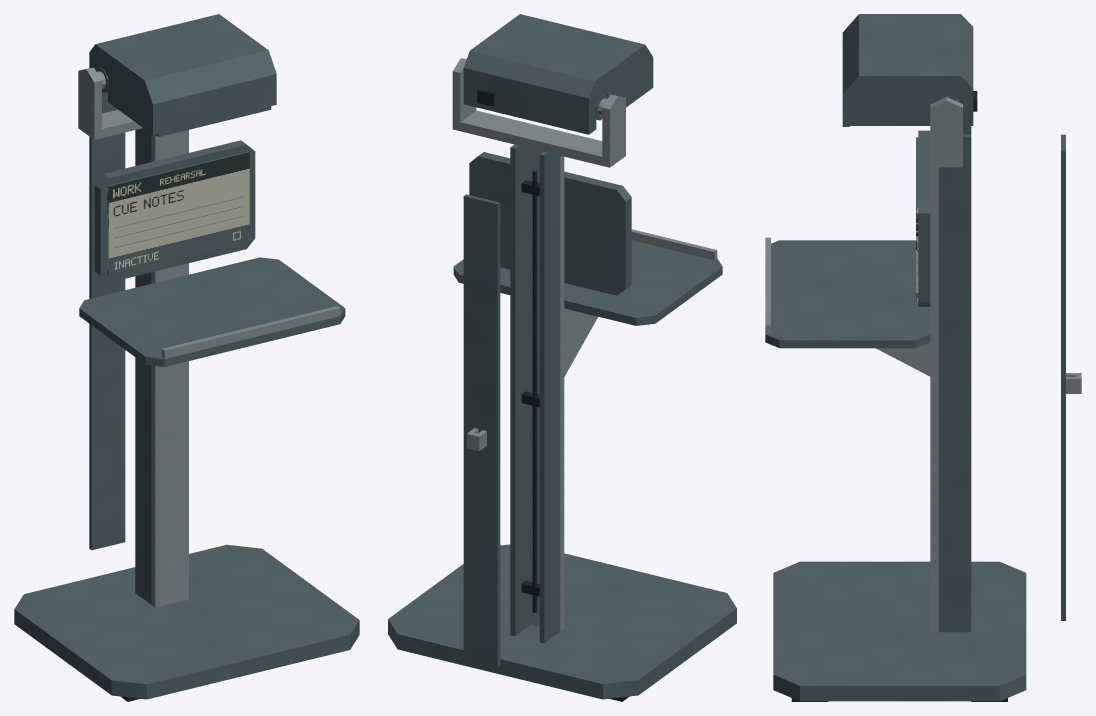
The model's file is AST-CUL-004_service_open.glb.
The picture shows the model from 3 angles, left to right: view 1: azimuth 30°, elevation 25°; view 2: azimuth 150°, elevation 25°; view 3: azimuth 270°, elevation 25°; orthographic projection. The views are drawn at different scales.
Visible parts, largest first — view 1: AST-CUL-004__static__staff_bluegrey_paint, AST-CUL-004__LIGHT_AIM_X__staff_bluegrey_paint, AST-CUL-004__static__staff_zinc, AST-CUL-004__static__original_rehearsal_notes, AST-CUL-004__REAR_COVER_REMOVE__staff_bluegrey_paint; view 2: AST-CUL-004__static__staff_bluegrey_paint, AST-CUL-004__REAR_COVER_REMOVE__staff_bluegrey_paint, AST-CUL-004__LIGHT_AIM_X__staff_bluegrey_paint, AST-CUL-004__static__staff_zinc, AST-CUL-004__static__staff_rubber; view 3: AST-CUL-004__static__staff_bluegrey_paint, AST-CUL-004__LIGHT_AIM_X__staff_bluegrey_paint, AST-CUL-004__static__staff_zinc, AST-CUL-004__REAR_COVER_REMOVE__staff_bluegrey_paint.
Boxes of the visible parts, x1,y1,x2,y2 form: AST-CUL-004__static__staff_bluegrey_paint: (14, 128, 359, 699); AST-CUL-004__LIGHT_AIM_X__staff_bluegrey_paint: (89, 14, 276, 137); AST-CUL-004__static__staff_zinc: (78, 67, 340, 607); AST-CUL-004__static__original_rehearsal_notes: (107, 151, 249, 276); AST-CUL-004__REAR_COVER_REMOVE__staff_bluegrey_paint: (89, 92, 125, 550); AST-CUL-004__static__staff_bluegrey_paint: (388, 144, 736, 699); AST-CUL-004__REAR_COVER_REMOVE__staff_bluegrey_paint: (463, 194, 500, 666); AST-CUL-004__LIGHT_AIM_X__staff_bluegrey_paint: (463, 14, 653, 134); AST-CUL-004__static__staff_zinc: (452, 58, 717, 631); AST-CUL-004__static__staff_rubber: (521, 170, 629, 701); AST-CUL-004__static__staff_bluegrey_paint: (765, 126, 1026, 701); AST-CUL-004__LIGHT_AIM_X__staff_bluegrey_paint: (842, 14, 973, 126); AST-CUL-004__static__staff_zinc: (765, 97, 962, 632); AST-CUL-004__REAR_COVER_REMOVE__staff_bluegrey_paint: (1061, 134, 1065, 620).
Size of the model in its own units: 0.72 by 1.62 by 0.776.
5 materials, 5 textured.
